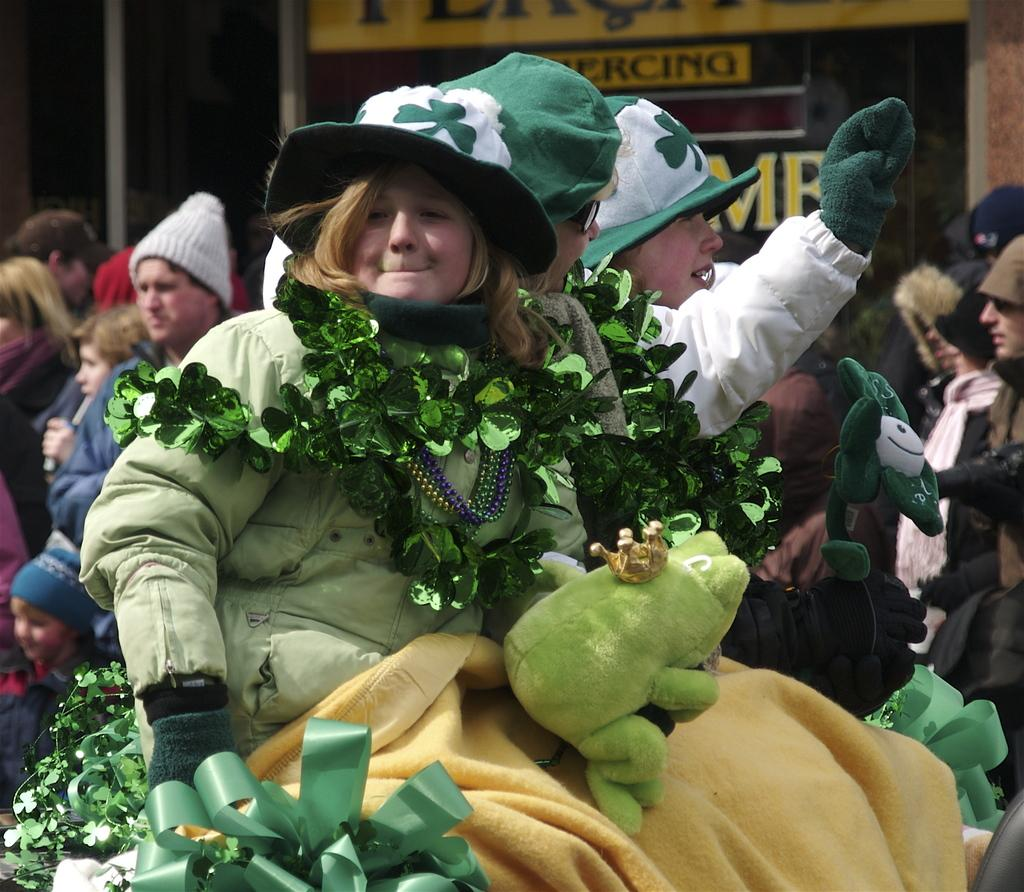Hat: (267, 78, 558, 276), (573, 93, 762, 260)
